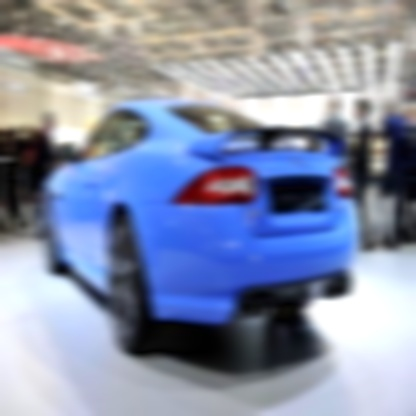Vehicle: (21, 74, 372, 379)
